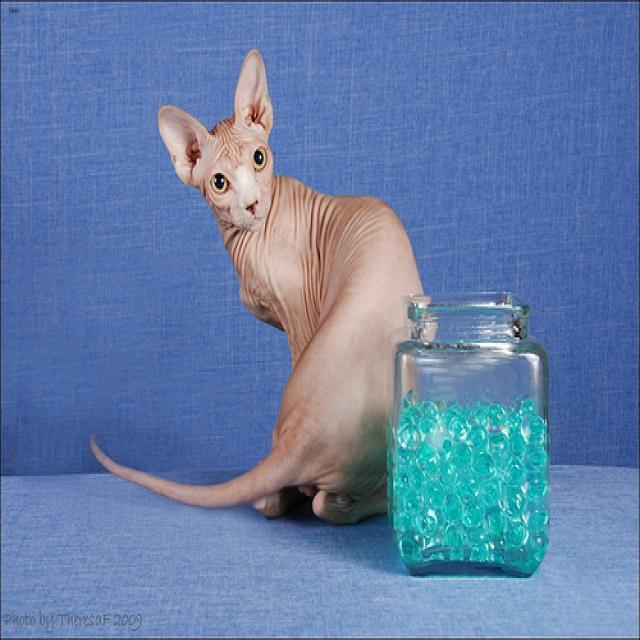Sphynx: (155, 47, 271, 228)
